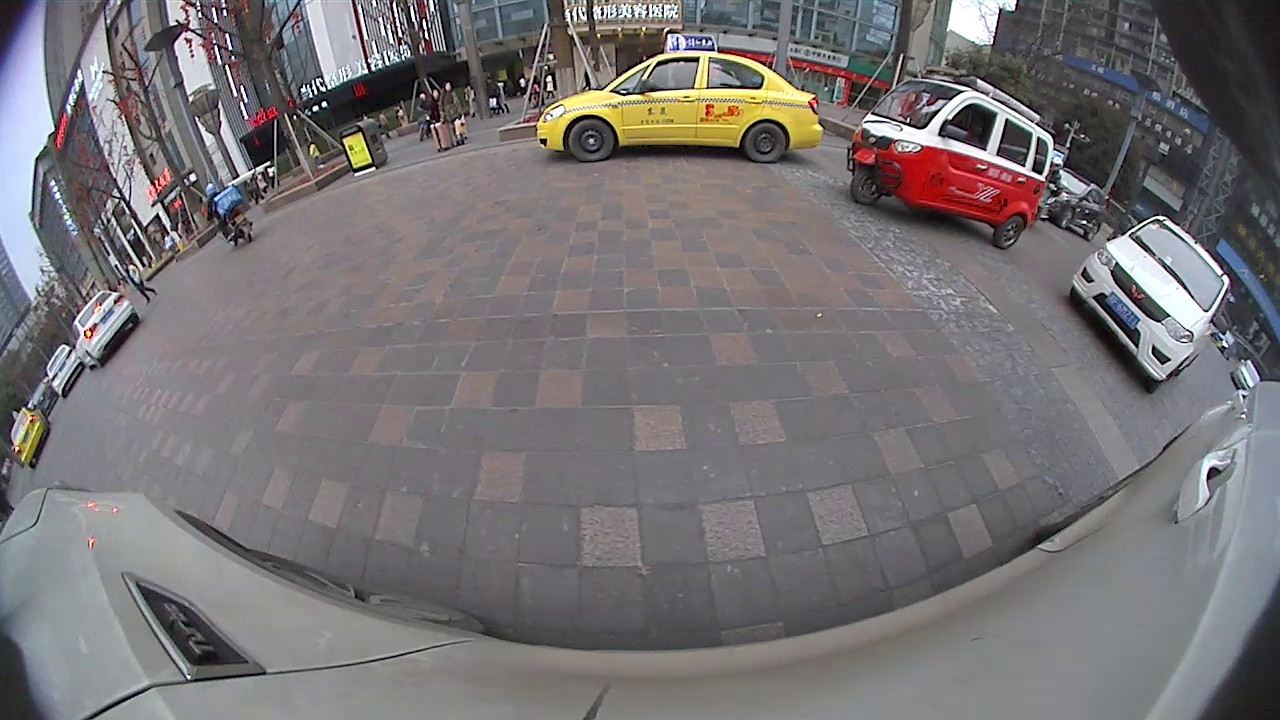car: (533, 31, 826, 165), (1069, 214, 1233, 394), (69, 288, 142, 373), (1038, 163, 1108, 242), (8, 403, 53, 469), (44, 342, 87, 401)
front: (565, 115, 617, 166), (847, 164, 887, 209)
person: (439, 81, 457, 150), (120, 261, 140, 307)
rear: (740, 119, 789, 166), (997, 211, 1027, 254)
rider: (845, 64, 1057, 252), (204, 182, 255, 246)
